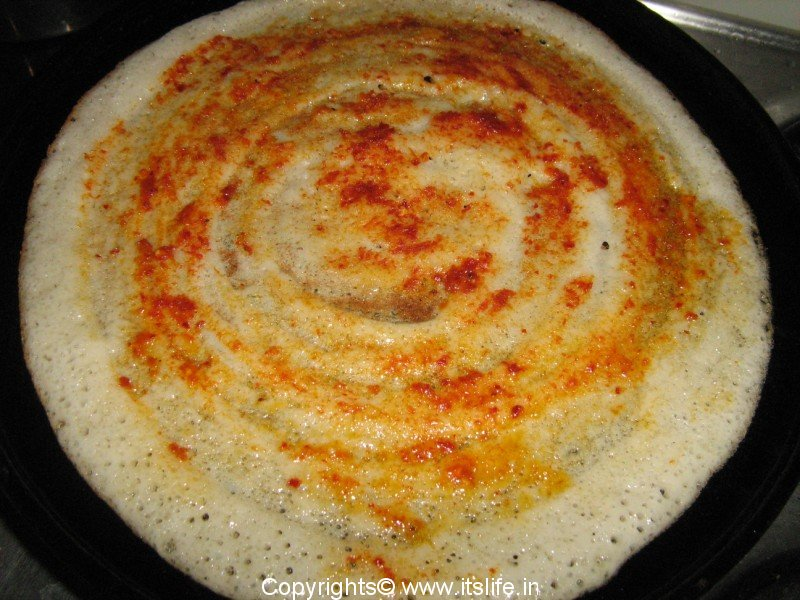dosa: (20, 2, 777, 600)
